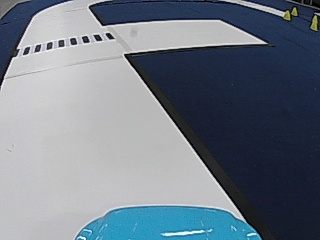CrossWalk: (17, 31, 114, 55)
